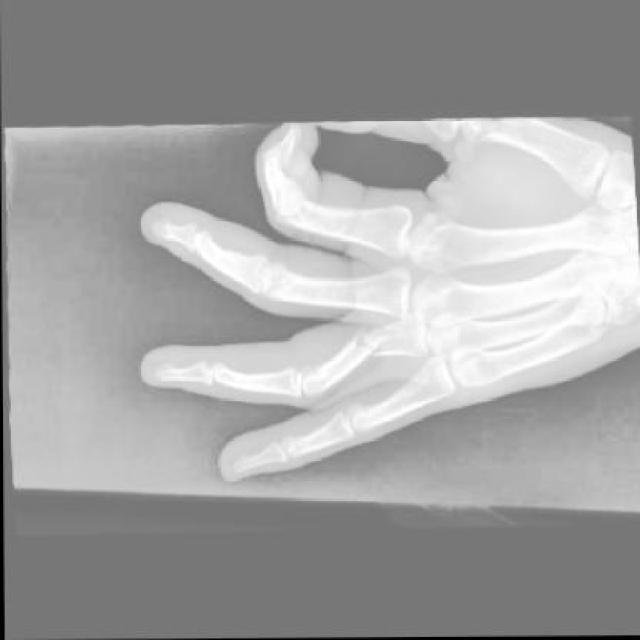Fracture: (346, 325, 389, 359)
